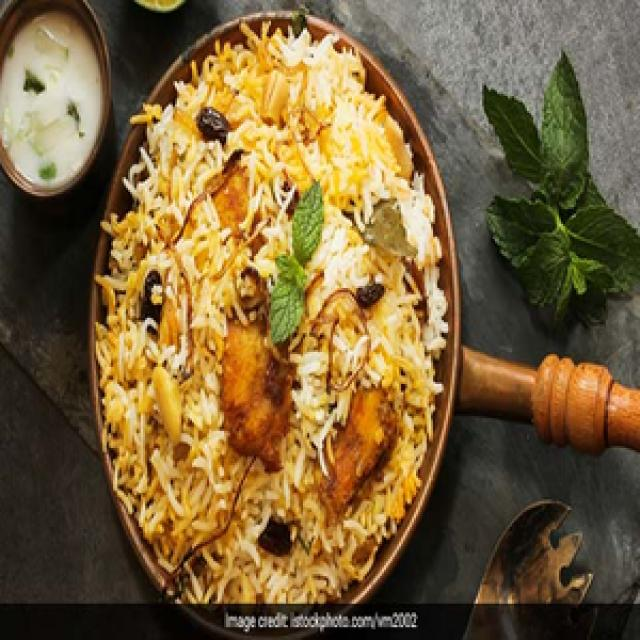chicken biriyani: (89, 4, 462, 610)
